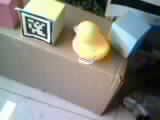duck: (66, 18, 112, 67)
